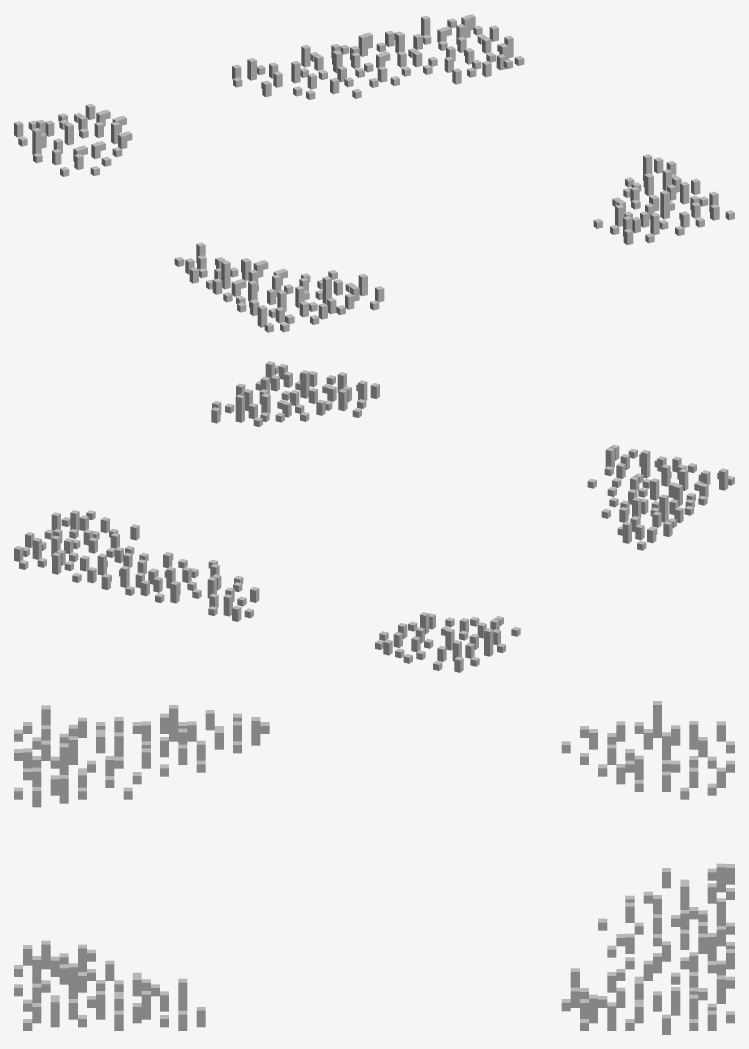
File: river_snow_3_overtile.glb
The picture shows the model from 3 angles, top to bottom: view 1: azimuth 30°, elevation 25°; view 2: azimuth 150°, elevation 25°; view 3: azimuth 270°, elevation 25°; orthographic projection. The views are drawn at different scales.
Parts seen in each view (by area): view 1: river_snow_3_overtile; view 2: river_snow_3_overtile; view 3: river_snow_3_overtile.
Boxes of the visible parts, <box> form: river_snow_3_overtile: <box>14,14,734,332</box>; river_snow_3_overtile: <box>14,361,734,672</box>; river_snow_3_overtile: <box>14,701,734,1034</box>.
Size of the model in its own units: 8 by 0.4 by 7.9.
Materials: 1 (1 with a texture image).
